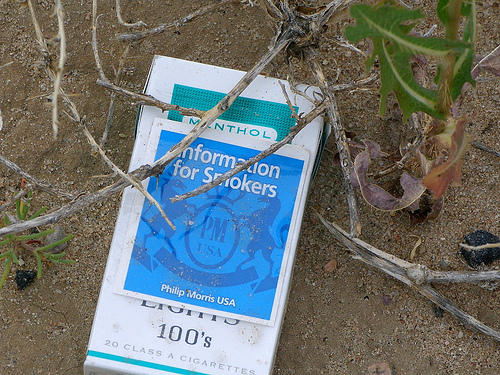litter: (80, 53, 303, 375)
